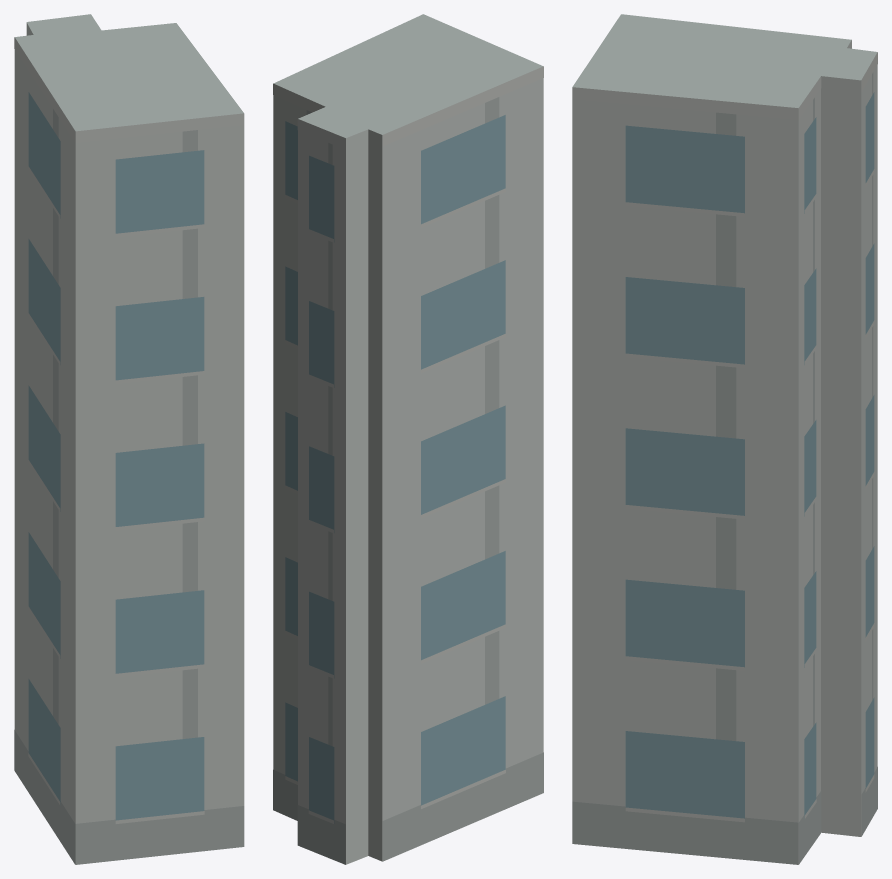
Rendered from survey-upis-33046053.glb.
The picture shows the model from 3 angles, left to right: view 1: azimuth 30°, elevation 25°; view 2: azimuth 150°, elevation 25°; view 3: azimuth 270°, elevation 25°; orthographic projection. The views are drawn at different scales.
Parts seen in each view (by area): view 1: survey-upis-33046053.tmp; view 2: survey-upis-33046053.tmp; view 3: survey-upis-33046053.tmp.
Part boxes in pixels (x1,y1,x2,y2): survey-upis-33046053.tmp: [14, 14, 244, 864]; survey-upis-33046053.tmp: [273, 14, 543, 864]; survey-upis-33046053.tmp: [572, 14, 877, 864].
Bounding box in the file's own units: 4.08 × 15.25 × 5.59.
